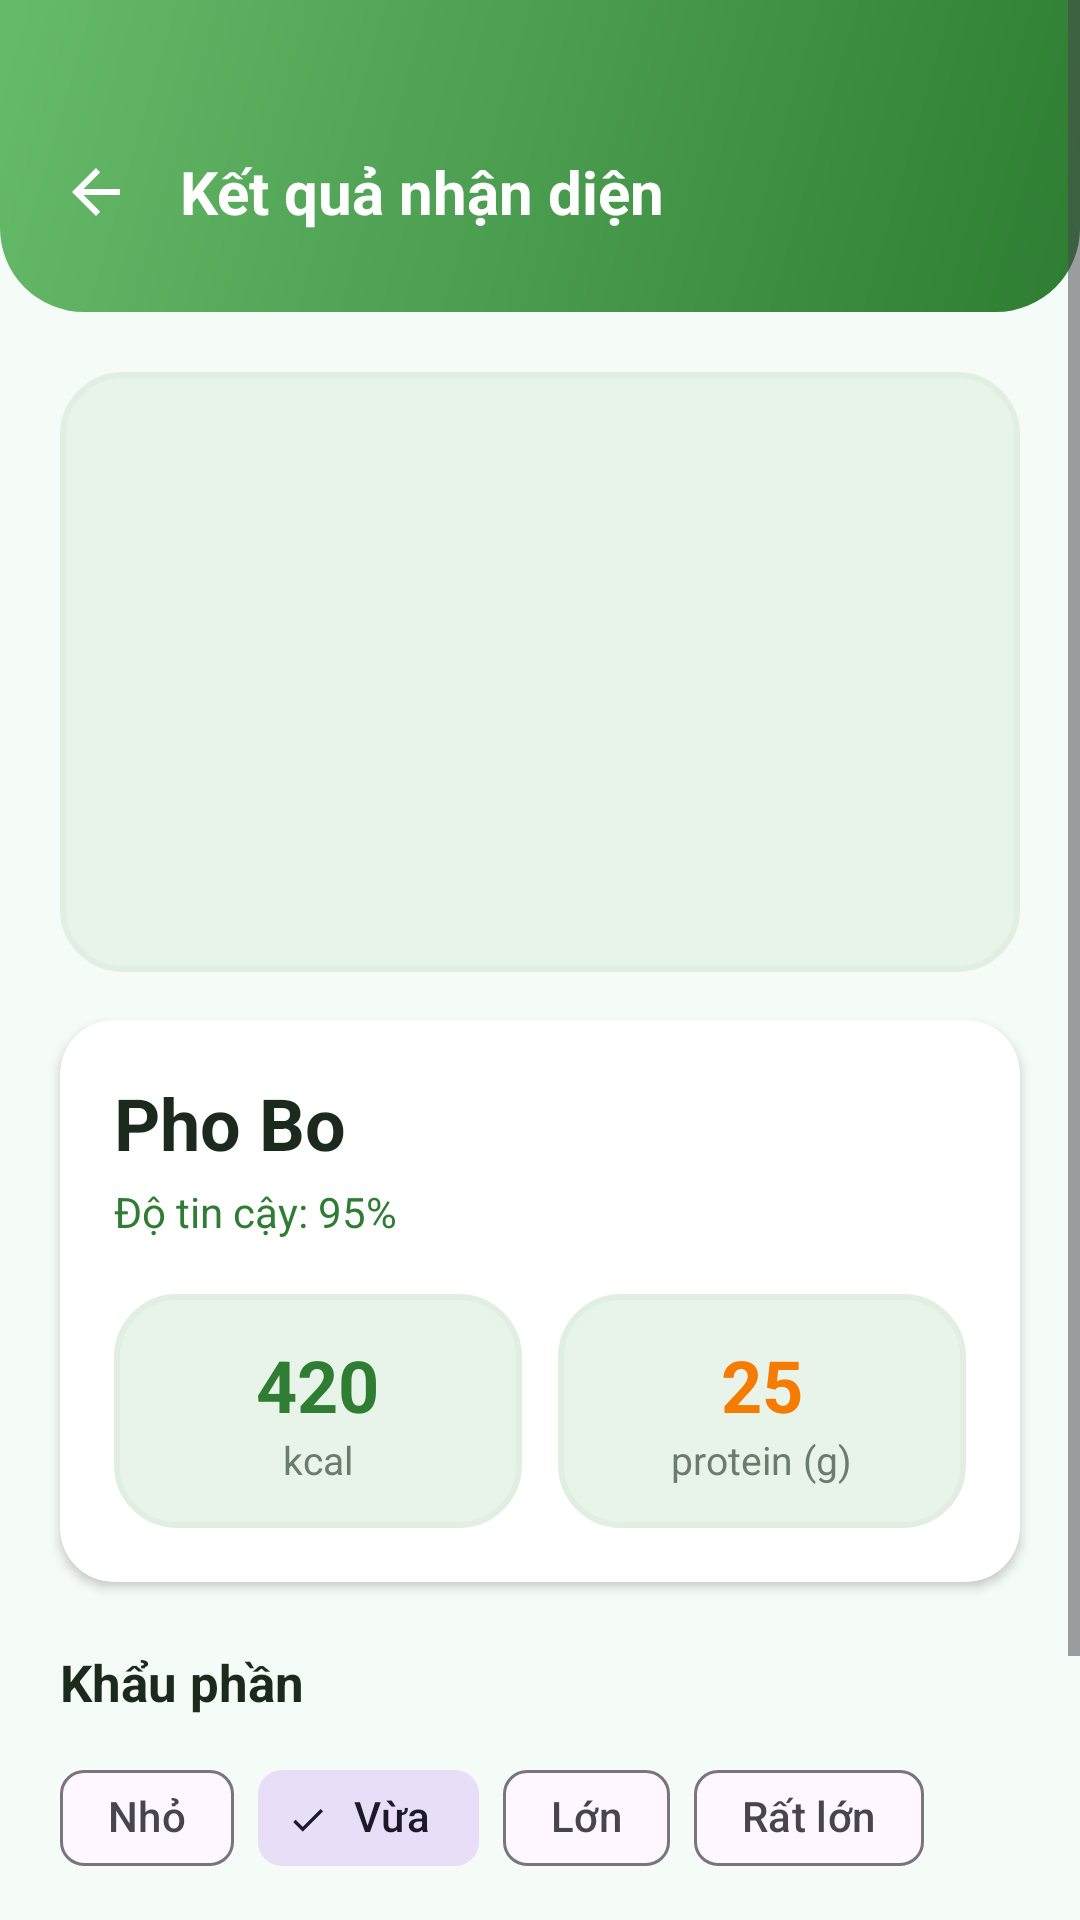

Icons on this 1080px x 1920px Android screen, each with its box as rect(x1, y1, x2, y2):
back: rect(72, 168, 120, 216)
